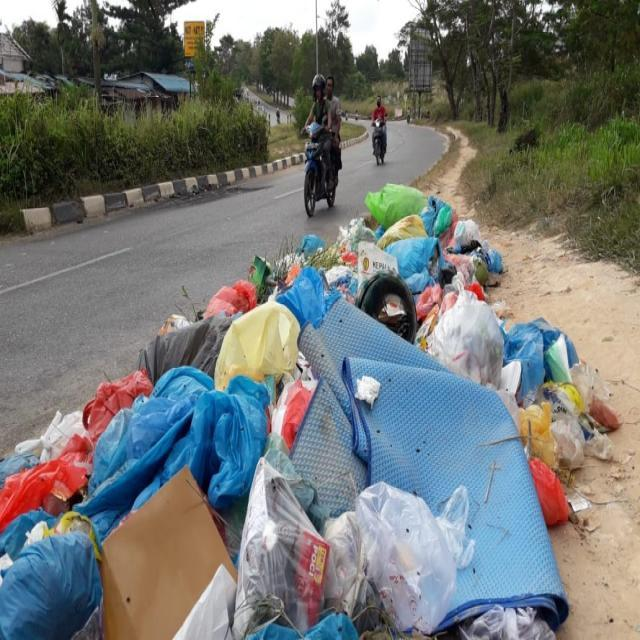garbage: (2, 178, 626, 640)
